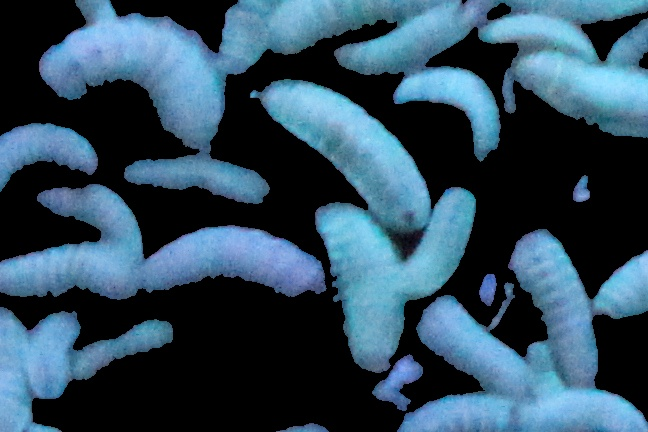larvae: (26, 6, 230, 163), (265, 69, 442, 229), (146, 226, 340, 329), (502, 225, 608, 396), (418, 299, 544, 404), (517, 44, 648, 144), (320, 207, 403, 362), (395, 172, 485, 303), (118, 144, 281, 216), (400, 67, 520, 163), (1, 116, 115, 201), (1, 238, 138, 306), (339, 6, 476, 70), (67, 313, 173, 381), (482, 8, 603, 64), (508, 387, 648, 430), (32, 186, 147, 237), (390, 394, 513, 432), (25, 308, 74, 396), (593, 244, 648, 321)
